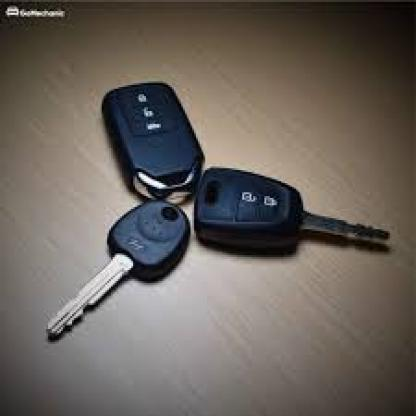key: (30, 198, 195, 336), (198, 171, 393, 270)
